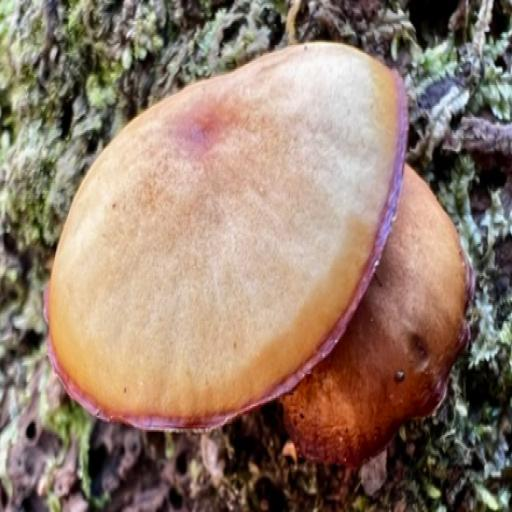Funeral Bell: (44, 36, 476, 487)
